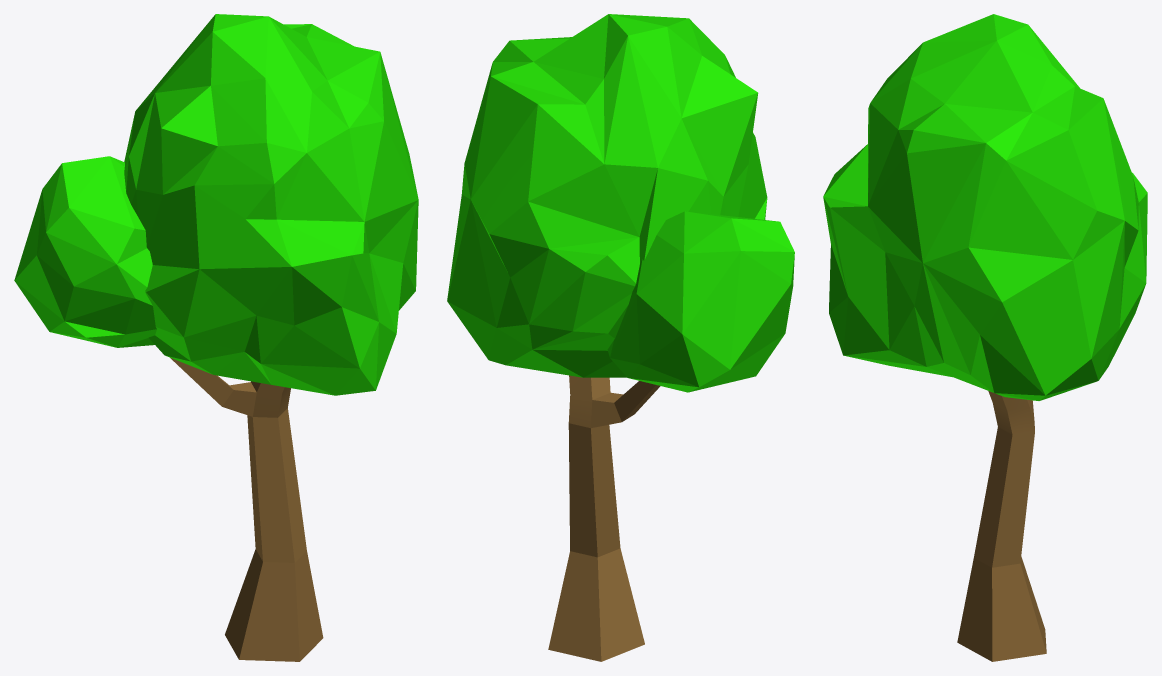
Rendered from Tree2.fbx.
3 renders of one model, left to right at view 1: azimuth 30°, elevation 25°; view 2: azimuth 150°, elevation 25°; view 3: azimuth 270°, elevation 25°, orthographic. The views are drawn at different scales.
Parts seen in each view (by area): view 1: Tree2; view 2: Tree2; view 3: Tree2.
Boxes of the visible parts, <box> form: Tree2: <box>14,14,418,661</box>; Tree2: <box>447,14,794,661</box>; Tree2: <box>823,14,1147,661</box>.
Bounding box in the file's own units: 222 × 385 × 189.
